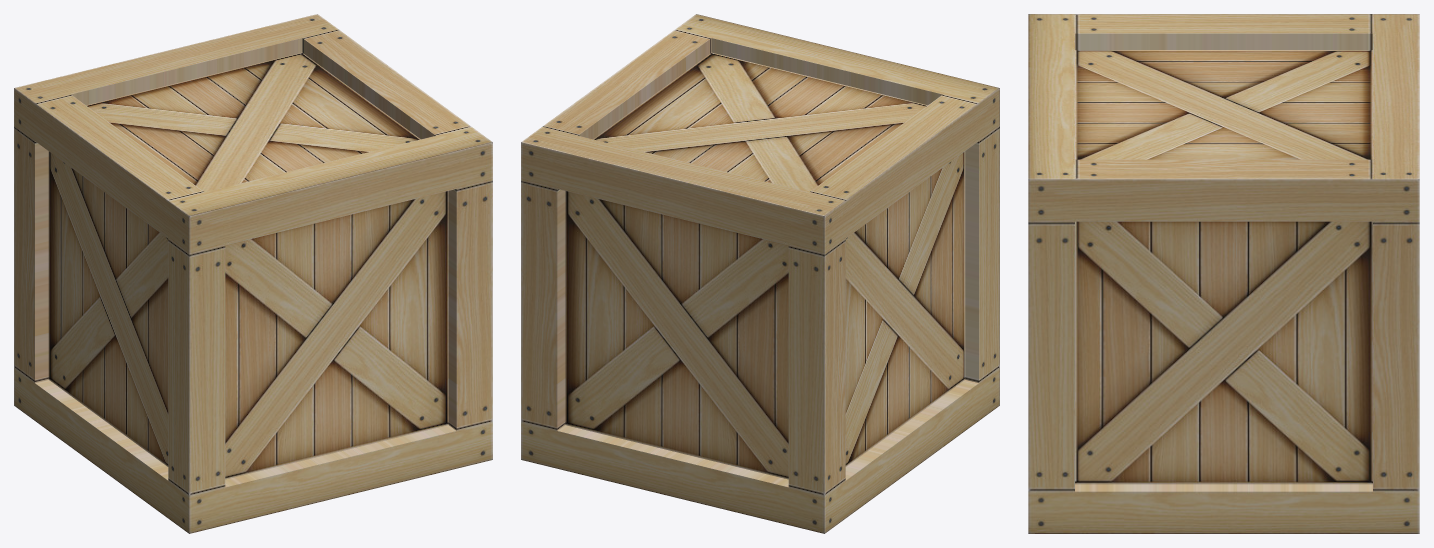
Rendered from caja_v3.fbx.
3 renders of one model, left to right at view 1: azimuth 30°, elevation 25°; view 2: azimuth 150°, elevation 25°; view 3: azimuth 270°, elevation 25°, orthographic. The views are drawn at different scales.
Visible parts, largest first — view 1: Caja; view 2: Caja; view 3: Caja.
Boxes of the visible parts, left/top/right/bottom form: Caja: left=14, top=14, right=492, bottom=533; Caja: left=521, top=14, right=999, bottom=533; Caja: left=1028, top=14, right=1419, bottom=533.
Size of the model in its own units: 200 by 200 by 200.
1 material, 1 textured.
